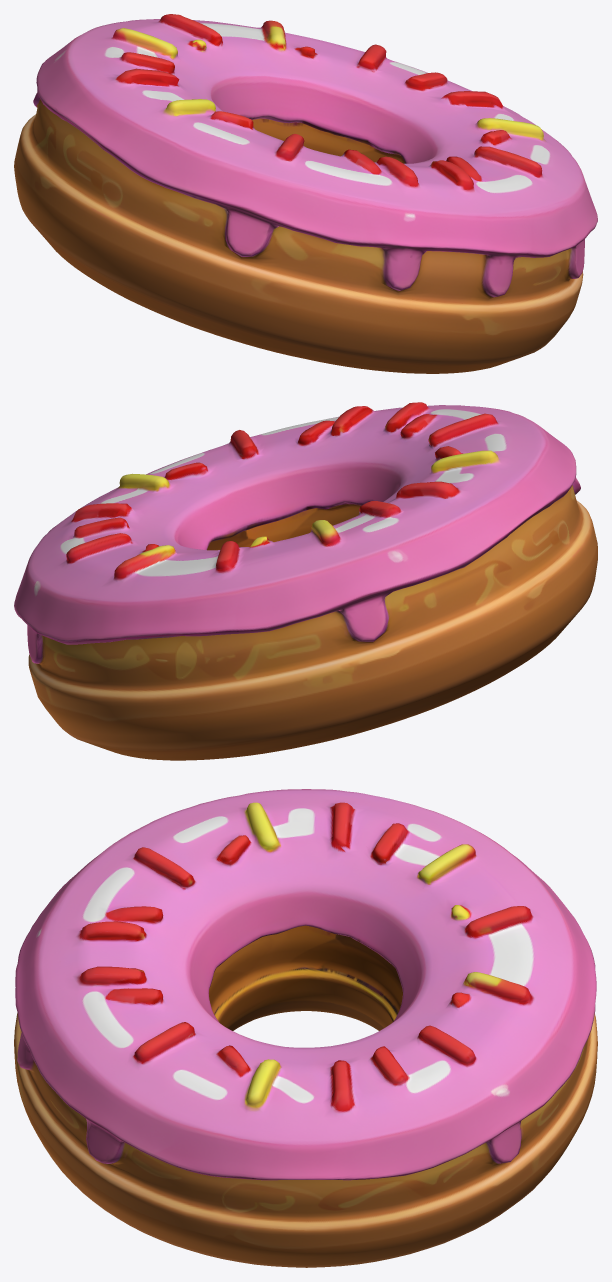
Rendered from Donut.fbx.
The picture shows the model from 3 angles, top to bottom: view 1: azimuth 30°, elevation 25°; view 2: azimuth 150°, elevation 25°; view 3: azimuth 270°, elevation 25°; orthographic projection.
Visible parts, largest first — view 1: model.010; view 2: model.010; view 3: model.010.
Part boxes in pixels (x1,y1,x2,y2): model.010: (14,14,597,373); model.010: (14,402,597,760); model.010: (14,789,597,1267).
Size of the model in its own units: 73.69 by 41.12 by 73.4.
